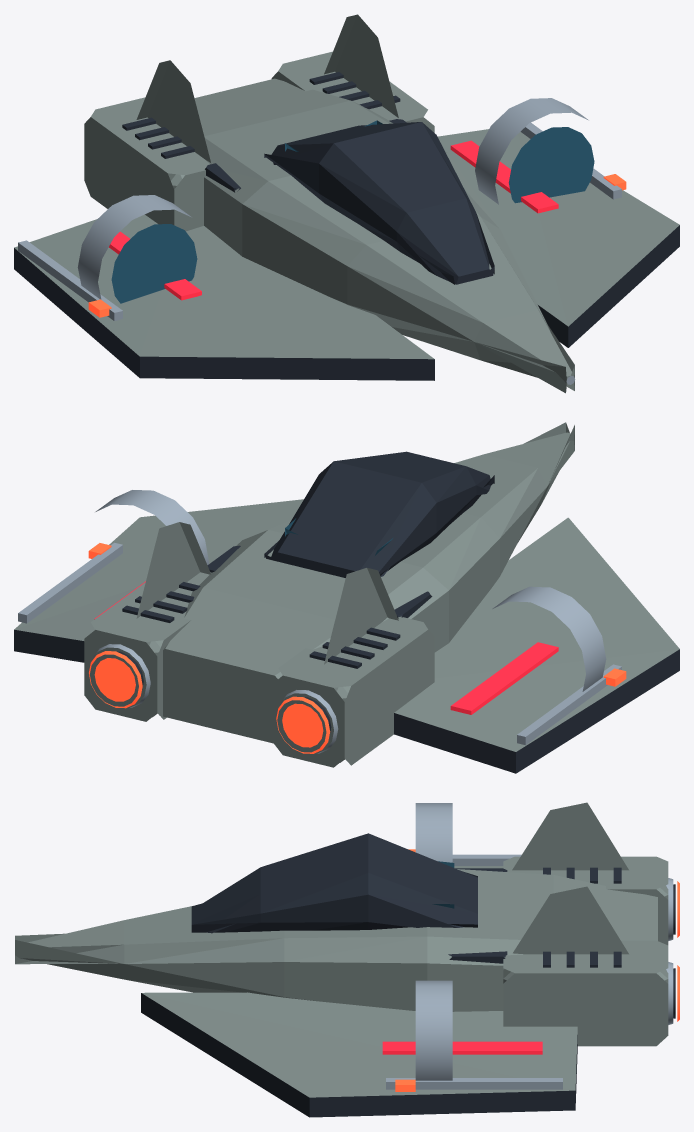
Rendered from warden_drone.glb.
3 renders of one model, top to bottom at view 1: azimuth 30°, elevation 25°; view 2: azimuth 150°, elevation 25°; view 3: azimuth 270°, elevation 25°, orthographic. The views are drawn at different scales.
Parts seen in each view (by area): view 1: Hull; view 2: Hull; view 3: Hull.
Boxes of the visible parts, bbox=[...] form: Hull: bbox=[14, 14, 679, 393]; Hull: bbox=[14, 422, 679, 773]; Hull: bbox=[15, 802, 679, 1117].
Size of the model in its own units: 3.4 by 1.03 by 3.96.
